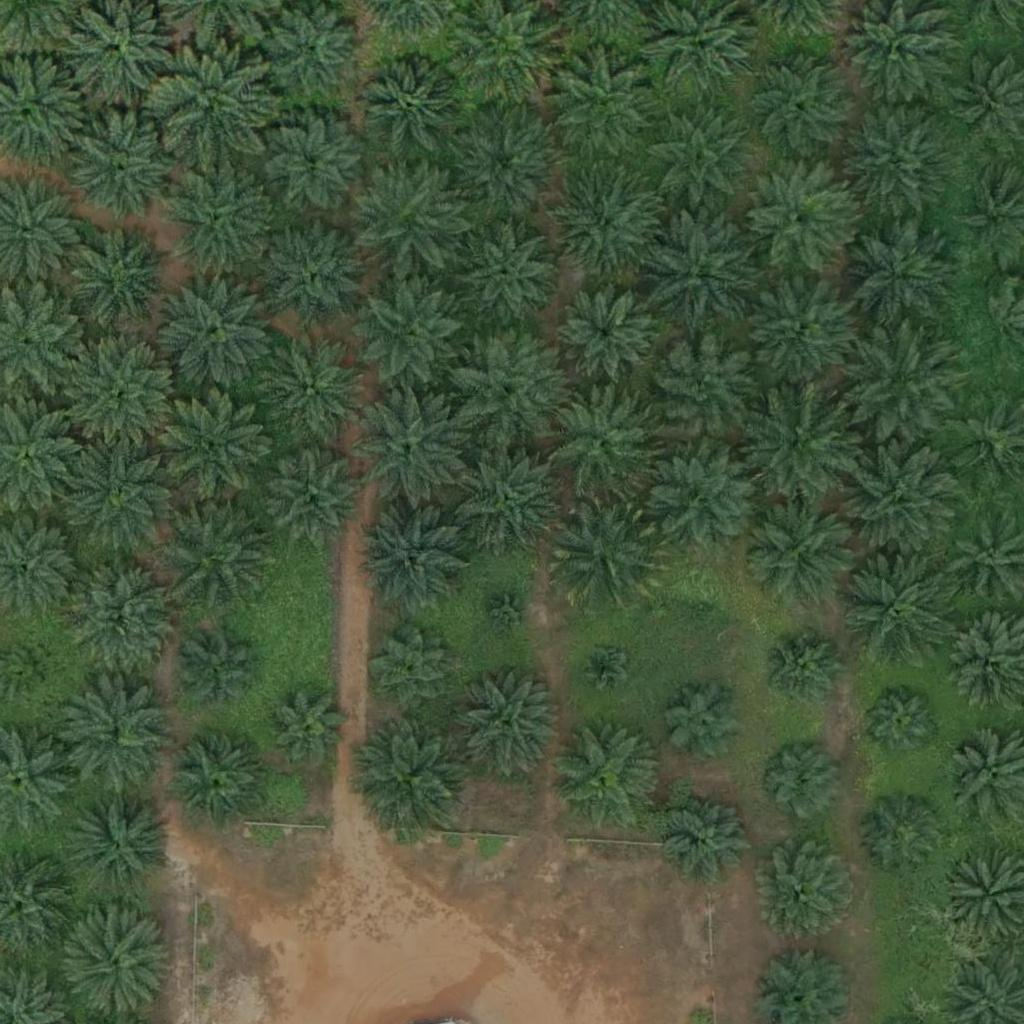Kelapa_Sawit: (548, 49, 661, 163), (840, 544, 953, 658), (743, 275, 856, 389), (740, 385, 853, 499), (641, 104, 754, 218), (643, 214, 756, 328), (551, 169, 664, 283), (65, 558, 178, 672), (156, 48, 269, 161), (745, 495, 858, 608), (647, 335, 760, 448), (355, 279, 468, 392), (355, 392, 468, 505), (358, 507, 471, 620), (253, 328, 366, 441), (69, 339, 182, 452), (63, 434, 176, 547), (59, 682, 172, 795), (63, 786, 176, 899), (63, 909, 176, 1022), (358, 720, 471, 833), (844, 325, 956, 439), (846, 442, 958, 556), (550, 720, 662, 834), (549, 496, 661, 609), (447, 107, 559, 220), (744, 47, 856, 160), (843, 104, 955, 217), (842, 219, 954, 332), (742, 162, 854, 275), (652, 442, 764, 555), (547, 386, 659, 499), (447, 332, 559, 445), (451, 439, 563, 552), (350, 161, 462, 274), (162, 165, 274, 278), (159, 276, 271, 389), (164, 388, 276, 501), (163, 495, 275, 608), (69, 110, 181, 223), (451, 670, 563, 783), (264, 117, 364, 218), (364, 59, 464, 160), (556, 283, 656, 384), (458, 224, 558, 325), (264, 221, 364, 322), (265, 448, 365, 549), (74, 227, 174, 328), (758, 841, 858, 941), (174, 738, 262, 827), (667, 793, 755, 881), (370, 628, 457, 716), (661, 678, 748, 766), (760, 628, 847, 716), (757, 737, 844, 825), (859, 792, 946, 880), (183, 638, 258, 714), (269, 689, 344, 764), (862, 684, 937, 759), (485, 586, 535, 637), (579, 642, 629, 693), (676, 579, 726, 629)
